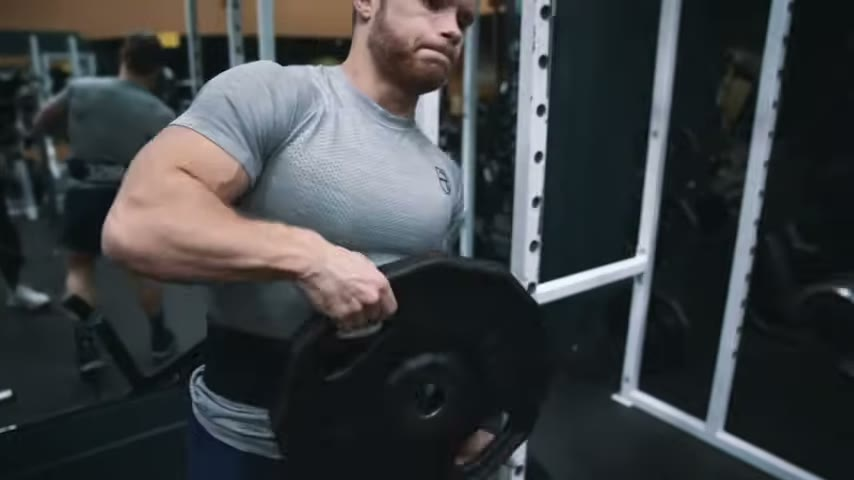barbell_plate_side: (515, 199, 663, 479)
